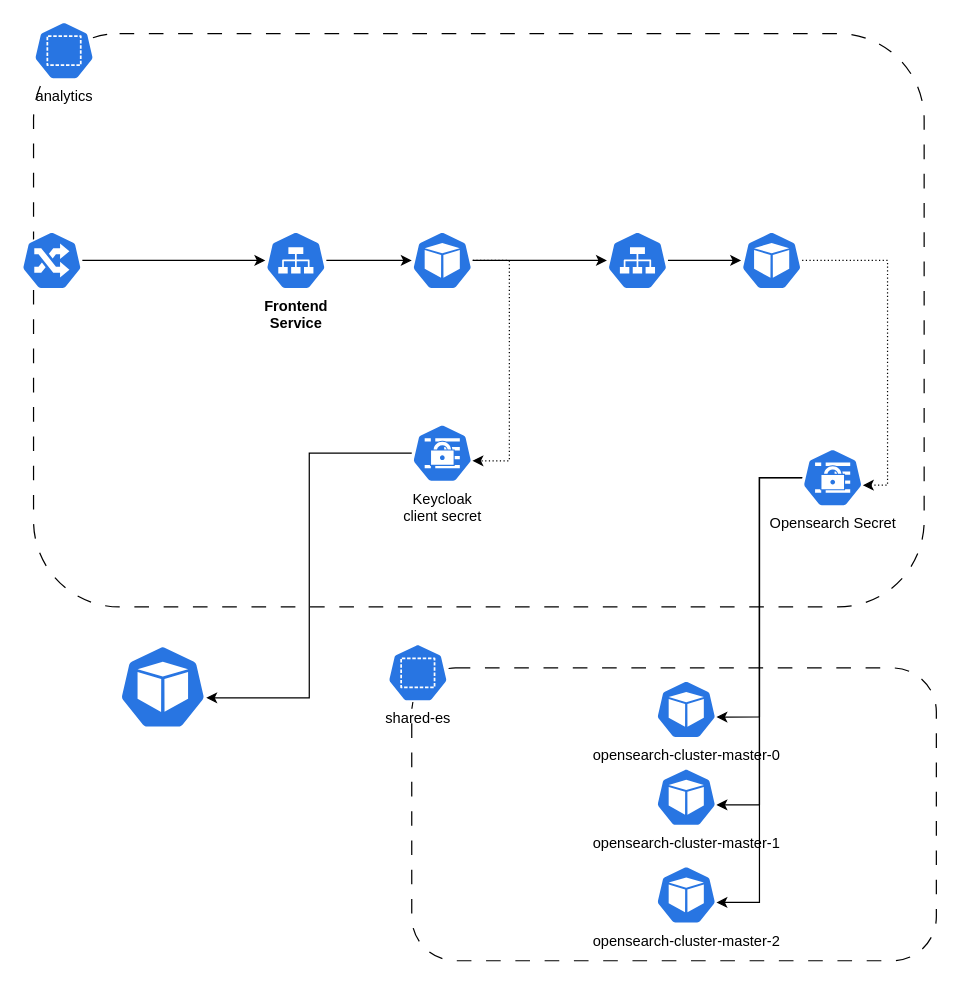
Some shapes in this 958 by 982 pixel diagram are drawn without their labels. The shapes that lost their labels are listed below. From the top down, each one's box as (x1, y1, x2, y2) in pixels, then its label:
(20, 230, 82, 290): host: badhomburg.urbanpulse.de/ path: /analytics/parking/
(411, 230, 473, 290): Frontend : - Openresty - Serves
(740, 230, 802, 290): Backend: - Fastapi
(118, 644, 207, 729): Keycloak
